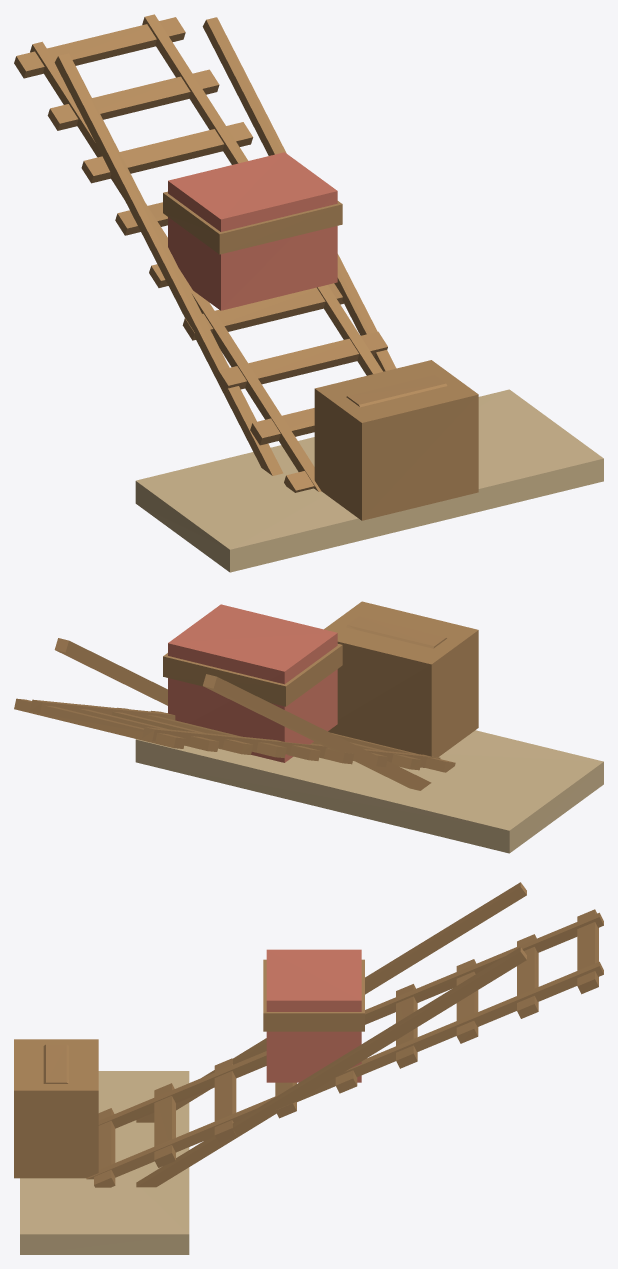
The model's file is Mountain-Funicular.glb.
3 views of the same model, one above another, from view 1: azimuth 30°, elevation 25°; view 2: azimuth 150°, elevation 25°; view 3: azimuth 270°, elevation 25° (orthographic). The views are drawn at different scales.
Parts seen in each view (by area): view 1: mountain-funicular-static-funicular-dark-rail, mountain-funicular-static-funicular-stone-platform, mountain-funicular-static-funicular-sleeper-timber, mountain-funicular-static-funicular-cabin-red, mountain-funicular-static-funicular-cable-drum; view 2: mountain-funicular-static-funicular-stone-platform, mountain-funicular-static-funicular-dark-rail, mountain-funicular-static-funicular-cabin-red, mountain-funicular-static-funicular-sleeper-timber, mountain-funicular-static-funicular-cable-drum; view 3: mountain-funicular-static-funicular-dark-rail, mountain-funicular-static-funicular-stone-platform, mountain-funicular-static-funicular-cabin-red, mountain-funicular-static-funicular-sleeper-timber, mountain-funicular-static-funicular-cable-drum.
Boxes of the visible parts, bbox=[...] form: mountain-funicular-static-funicular-dark-rail: bbox=[30, 14, 478, 520]; mountain-funicular-static-funicular-stone-platform: bbox=[135, 389, 603, 572]; mountain-funicular-static-funicular-sleeper-timber: bbox=[14, 17, 387, 492]; mountain-funicular-static-funicular-cabin-red: bbox=[168, 152, 337, 310]; mountain-funicular-static-funicular-cable-drum: bbox=[163, 191, 447, 407]; mountain-funicular-static-funicular-stone-platform: bbox=[135, 730, 603, 853]; mountain-funicular-static-funicular-dark-rail: bbox=[30, 601, 478, 790]; mountain-funicular-static-funicular-cabin-red: bbox=[168, 604, 337, 762]; mountain-funicular-static-funicular-sleeper-timber: bbox=[14, 698, 455, 772]; mountain-funicular-static-funicular-cable-drum: bbox=[163, 616, 446, 706]; mountain-funicular-static-funicular-dark-rail: bbox=[14, 882, 603, 1187]; mountain-funicular-static-funicular-stone-platform: bbox=[20, 1071, 189, 1254]; mountain-funicular-static-funicular-cabin-red: bbox=[266, 949, 361, 1082]; mountain-funicular-static-funicular-sleeper-timber: bbox=[94, 909, 598, 1187]; mountain-funicular-static-funicular-cable-drum: bbox=[43, 959, 364, 1083].
Size of the model in its own units: 4.8 by 3.51 by 7.32.
